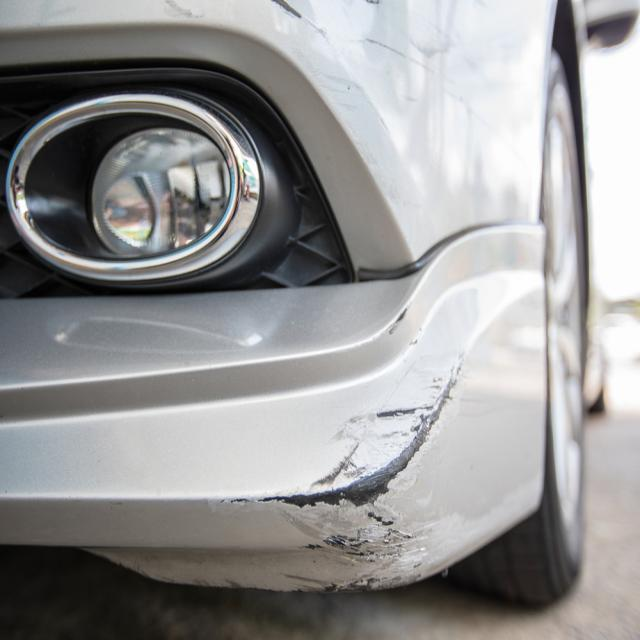scratch: (203, 340, 474, 592), (267, 0, 453, 119)
